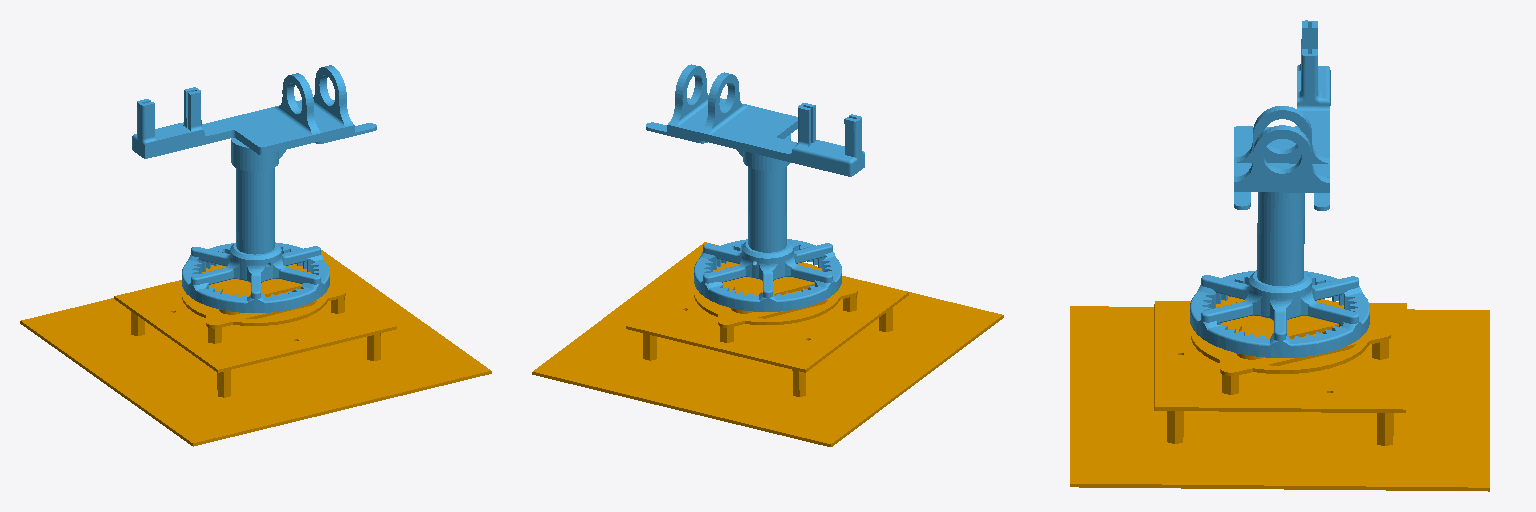
URDF robot description (robotArm):
<?xml version = "1.0"?>
<robot name = "robotArm">

<link name = "base_link">
    <visual>
        <geometry>
            <!-- import file stl มีหน่วยเป็นเมตร ขนาดคือส่วนที่กำหนดมาแล้วจาก STL โดยที่ปรับคือการปรับ scale xyz `-->
            <mesh filename="package://robot_urdf/f_stl/link0.STL" scale = "0.001 0.001 0.001 "/>
        </geometry>
        <origin xyz = "-0.1 0.1 0 " rpy = "1.56 0 0" />
    </visual>

    <collision>
    <!-- gunchon -->
        <geometry>
            <!-- import file stl มีหน่วยเป็นเมตร ขนาดคือส่วนที่กำหนดมาแล้วจาก STL โดยที่ปรับคือการปรับ scale xyz -->
            <mesh filename ="package://robot_urdf/f_stl/link0.STL" scale = "0.001 0.001 0.001"/>
        </geometry>
        <origin xyz = "-0.1 0.1 0" rpy = "1.56 0 0" />
    </collision>

     <inertial>
        <origin xyz = "-0.1 0.1 0" rpy = "1.56 0 0" />
        <mass value = "0.1598"/>
        <!-- mass = kg มีหน่วยเป็นกิโล
        innertia คือความเค้นความเครียดมีหน่วยเป็น นิวตันเมตร-->
        <inertia ixx = "0.001" ixy = "0" ixz = "0" iyy = "0.001" iyz = "0" izz = "0.001"/>
    </inertial>
</link>

<link name = "link1">
    <visual>
        <geometry>
            <!-- import file stl มีหน่วยเป็นเมตร ขนาดคือส่วนที่กำหนดมาแล้วจาก STL โดยที่ปรับคือการปรับ scale xyz -->
            <mesh filename="package://robot_urdf/f_stl/joint1R.STL" scale = "0.001 0.001 0.001" />
        </geometry>
        <origin xyz = "-0.0698 0.043 0.043" rpy = "1.56 0 0" />
    </visual>

    <collision>
    <!-- gunchon -->
        <geometry>
            <!-- import file stl มีหน่วยเป็นเมตร ขนาดคือส่วนที่กำหนดมาแล้วจาก STL โดยที่ปรับคือการปรับ scale xyz -->
            <mesh filename ="package://robot_urdf/f_stl/joint1R.STL" scale = "0.001 0.001 0.001"/>
        </geometry>
        <origin xyz = "-0.0698 0.43 0.043" rpy = "1.56 0 0" />
    </collision>

     <inertial>
        <origin xyz = "-0.0698 0.43 0.043" rpy = "1.56 0 0" />
        <mass value = "0.104"/>
        <!-- mass = kg มีหน่วยเป็นกิโล
        innertia คือความเค้นความเครียดมีหน่วยเป็น นิวตันเมตร-->
        <inertia ixx = "0.001" ixy = "0" ixz = "0" iyy = "0.001" iyz = "0" izz = "0.001"/>
    </inertial>
</link>

<!-- ////////////    joint1    /////////// -->
<joint name = "joint1" type = "revolute">
<!-- การตั้งชื่อ และชนิด -->

    <parent link = "base_link"/>        <!-- สิ่งที่ติดอยู่กับ joint  -->
    <child link = "link1"/>     <!-- และติดอยู่กับลิ้ง 1  -->
    <origin xyz = "0 0 0" rpy = "0 0 0"/>       <!-- โดยศูนย์กลางจ้อยอยู่ที่ตำแหน่ง ..... -->
    <axis xyz = "0 0 1"/>       <!-- ให้แกน z ขึ้นไป 1 -->

    <limit lower = "-3.1416" upper = "3.1416" effort = "100" velocity = "1"/>
    <!-- ช่วงที่จ้อยสามารถขยับได้ น้อยสุดที่ -3.14 สูงสุดที่ 3.14 เอฟฟอดคือค่าความเฉื่อย เวโลซิตี้คือความเร็ว -->
</joint>

<link name = "link2">
    <visual>
        <geometry>
            <!-- import file stl มีหน่วยเป็นเมตร ขนาดคือส่วนที่กำหนดมาแล้วจาก STL โดยที่ปรับคือการปรับ scale xyz -->
            <mesh filename="package://robot_urdf/f_stl/joint2_p.STL" scale = "0.001 0.001 0.001" />
        </geometry>
        <origin xyz = "0.0805 -0.013 0.0155" rpy = "0 3.12 0" />
    </visual>

    <collision>
    <!-- gunchon -->
        <geometry>
            <!-- import file stl มีหน่วยเป็นเมตร ขนาดคือส่วนที่กำหนดมาแล้วจาก STL โดยที่ปรับคือการปรับ scale xyz -->
            <mesh filename ="package://robot_urdf/f_stl/joint2_p.STL" scale = "0.001 0.001 0.001"/>
        </geometry>
        <origin xyz = "0.0805 -0.013 0.0155" rpy = "0 3.12 0" />
    </collision>

     <inertial>
        <origin xyz = "0.0805 -0.013 0.0155" rpy = "0 3.12 0" />
        <mass value = "0.01883"/>
        <!-- mass = kg มีหน่วยเป็นกิโล
        innertia คือความเค้นความเครียดมีหน่วยเป็น นิวตันเมตร-->
        <inertia ixx = "0.001" ixy = "0" ixz = "0" iyy = "0.001" iyz = "0" izz = "0.001"/>
    </inertial>
</link>

<!-- ////////////    joint2    /////////// -->
<joint name = "joint2" type = "prismatic">
<!-- การตั้งชื่อ และชนิด -->

    <parent link = "link1"/>        <!-- สิ่งที่ติดอยู่กับ joint  -->
    <child link = "link2"/>     <!-- และติดอยู่กับลิ้ง 1  -->
    <origin xyz = "0 0 0.155 " rpy = "0 0 0"/>       <!-- โดยศูนย์กลางจ้อยอยู่ที่ตำแหน่ง ..... -->
    <axis xyz = "1 0 0"/>      <!-- ให้แกน z ขึ้นไป 1 -->

    <limit lower = "-0.049" upper = "0.049" effort = "100" velocity = "1"/>
    <!-- ช่วงที่จ้อยสามารถขยับได้ น้อยสุดที่ -3.14 สูงสุดที่ 3.14 เอฟฟอดคือค่าความเฉื่อย เวโลซิตี้คือความเร็ว -->

</joint>

</robot>

--- What the picture shows (computed from the rendered views, not written in the file) ---
The picture shows the robot from 3 angles, left to right: view 1: azimuth 30°, elevation 25°; view 2: azimuth 150°, elevation 25°; view 3: azimuth 270°, elevation 25°; orthographic projection.
Robot: robotArm — 3 links, 2 joints (1 revolute, 1 prismatic); root link base_link; default pose: all joints at 0.
Links seen in each view (by area): view 1: base_link, link1; view 2: base_link, link1; view 3: base_link, link1.
Boxes of the visible links, x1,y1,x2,y2 form: base_link: (20,250,491,446); link1: (132,65,376,312); base_link: (532,242,1003,446); link1: (646,64,864,311); base_link: (1070,296,1489,491); link1: (1190,20,1369,357).
Bounding box of the posed robot: 0.2 × 0.2 × 0.1684 m (x, y, z).
Meshes: 3 distinct files referenced, 2 mesh visuals loaded (2 binary STL); not drawn: 1 (reference not matched to a file when rendering).
